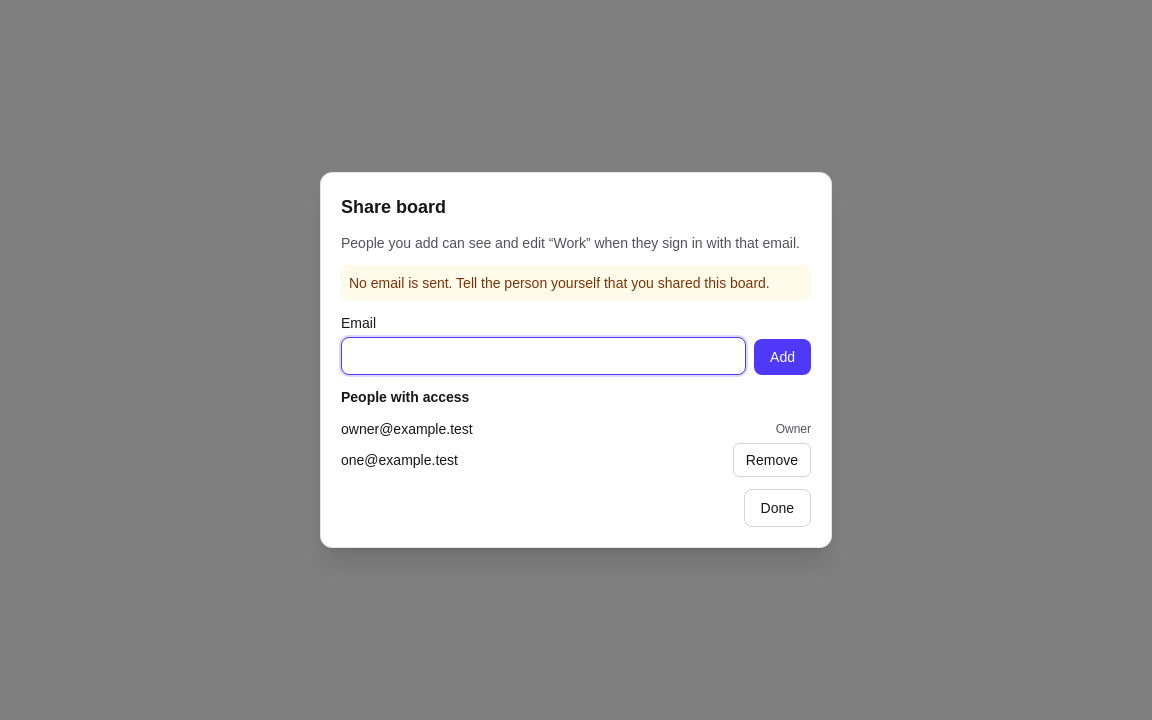
Test case: <ShareDialog /> › shows the server message for an invalid or own email
Expected: the text "one@example.test" is shown, x1=341 y1=450 x2=458 y2=470
In the field labelled "Email": (544, 356) x1=341 y1=337 x2=746 y2=375, type "owner@example.test"
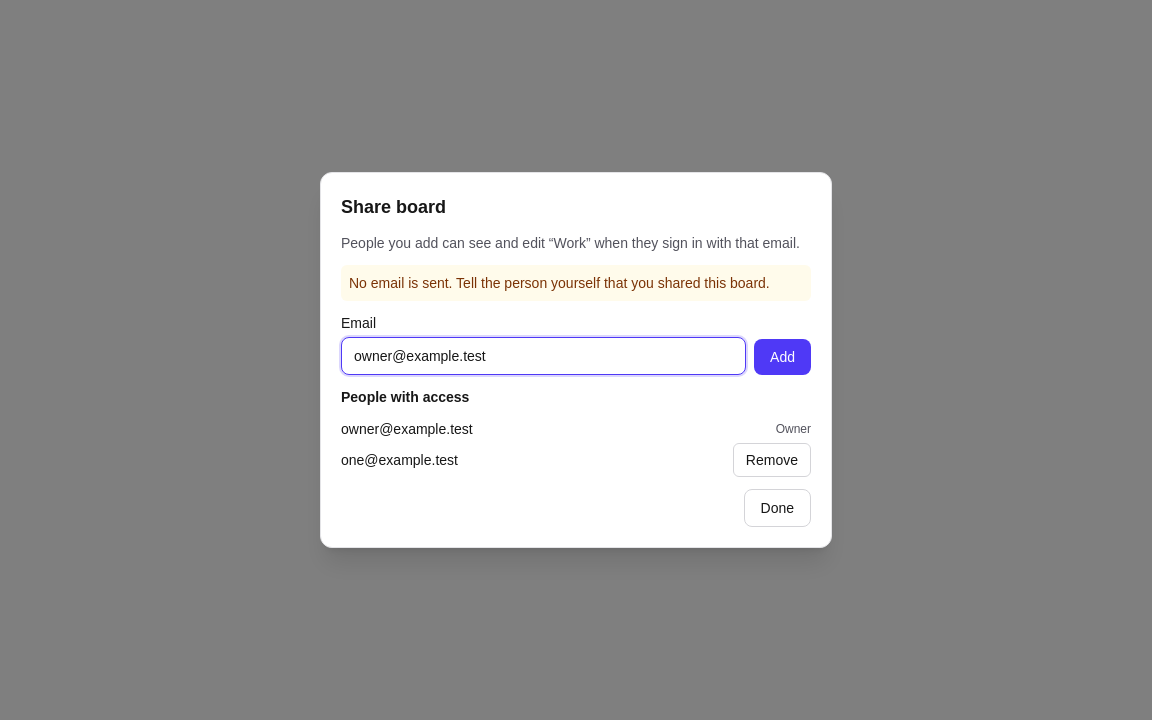
Click the button "Add": (783, 357) x1=754 y1=339 x2=811 y2=375
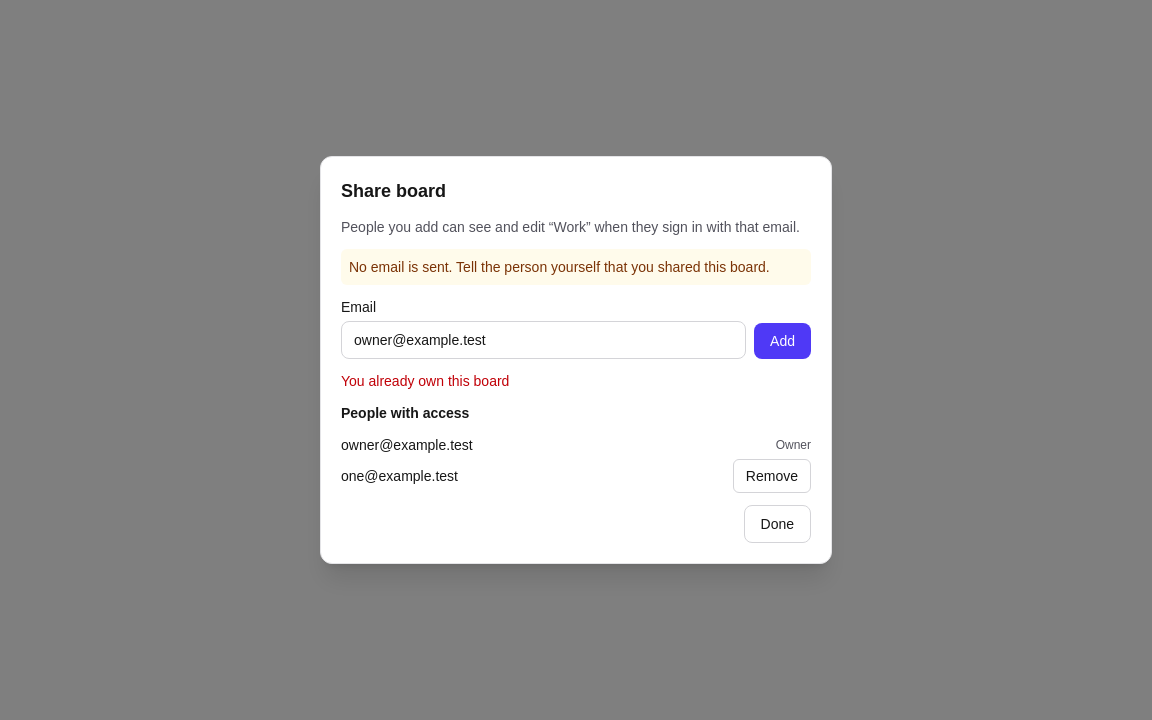
Expected: the message reads "You already own this board", x1=341 y1=373 x2=509 y2=389
